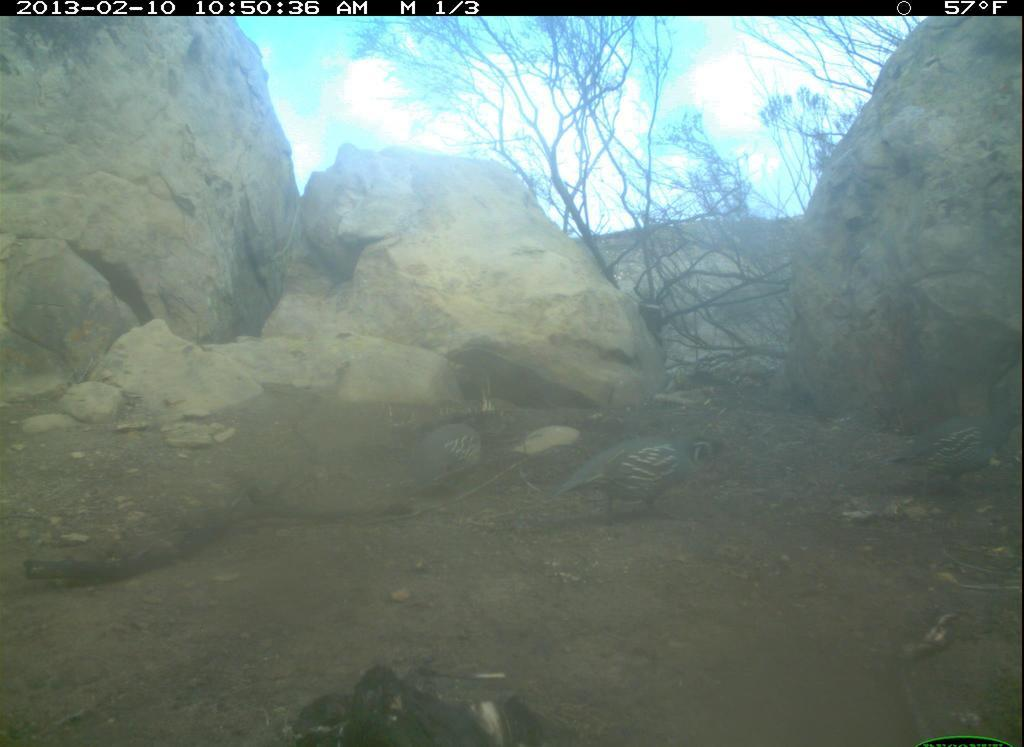bird: (890, 378, 1023, 513), (556, 423, 734, 523), (402, 410, 519, 502)
